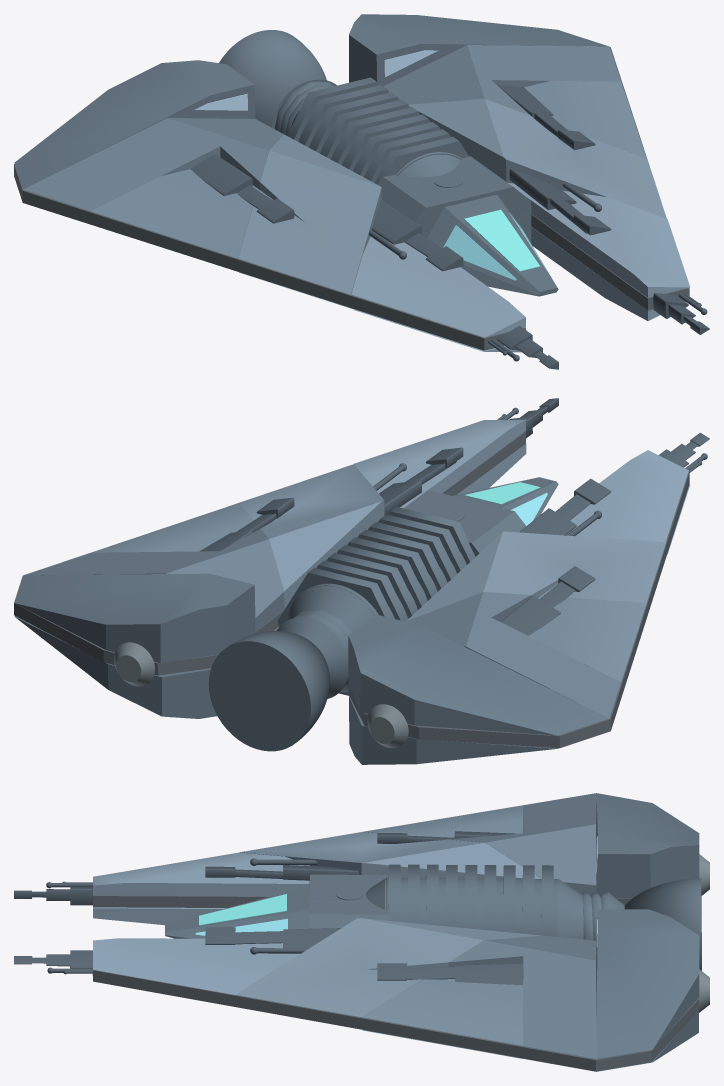
The model's file is fighter-plane.glb.
The picture shows the model from 3 angles, top to bottom: view 1: azimuth 30°, elevation 25°; view 2: azimuth 150°, elevation 25°; view 3: azimuth 270°, elevation 25°; orthographic projection. The views are drawn at different scales.
Visible parts, largest first — view 1: Object_45, Object_43, Object_30, Object_37, Object_34, Object_50, Object_32, Object_48, Object_41, Object_13, Object_72, Object_39 (+26 smaller); view 2: Object_30, Object_32, Object_45, Object_67, Object_43, Object_37, Object_34, Object_50, Object_41, Object_48, Object_33, Object_13 (+24 smaller); view 3: Object_32, Object_43, Object_34, Object_30, Object_48, Object_2, Object_39, Object_37, Object_45, Object_50, Object_53, Object_72 (+28 smaller).
Part boxes in pixels (x1,y1,x2,y2): Object_45: (238,134,381,294); Object_43: (408,98,666,218); Object_30: (14,60,255,189); Object_37: (23,118,283,210); Object_34: (383,45,620,115); Object_50: (351,237,525,337); Object_32: (349,14,609,86); Object_48: (508,182,690,297); Object_41: (91,169,259,258); Object_13: (14,164,525,350); Object_72: (377,156,531,242); Object_39: (524,80,646,158); Object_30: (348,614,609,735); Object_32: (14,573,255,663); Object_45: (407,531,666,620); Object_67: (208,631,329,751); Object_43: (239,464,384,609); Object_37: (406,592,620,718); Object_34: (25,528,284,631); Object_50: (566,450,688,542); Object_41: (529,597,646,681); Object_48: (354,419,526,508); Object_33: (14,616,217,718); Object_13: (349,471,689,748); Object_32: (596,909,699,1058); Object_43: (236,918,541,1016); Object_34: (448,935,596,1058); Object_30: (596,793,699,898); Object_48: (93,938,300,994); Object_2: (93,970,698,1071); Object_39: (361,979,522,1045); Object_37: (450,793,596,895); Object_45: (239,832,540,878); Object_50: (93,852,309,896); Object_53: (385,878,558,936); Object_72: (309,874,389,928).
Size of the model in its own units: 139 by 25.87 by 153.
